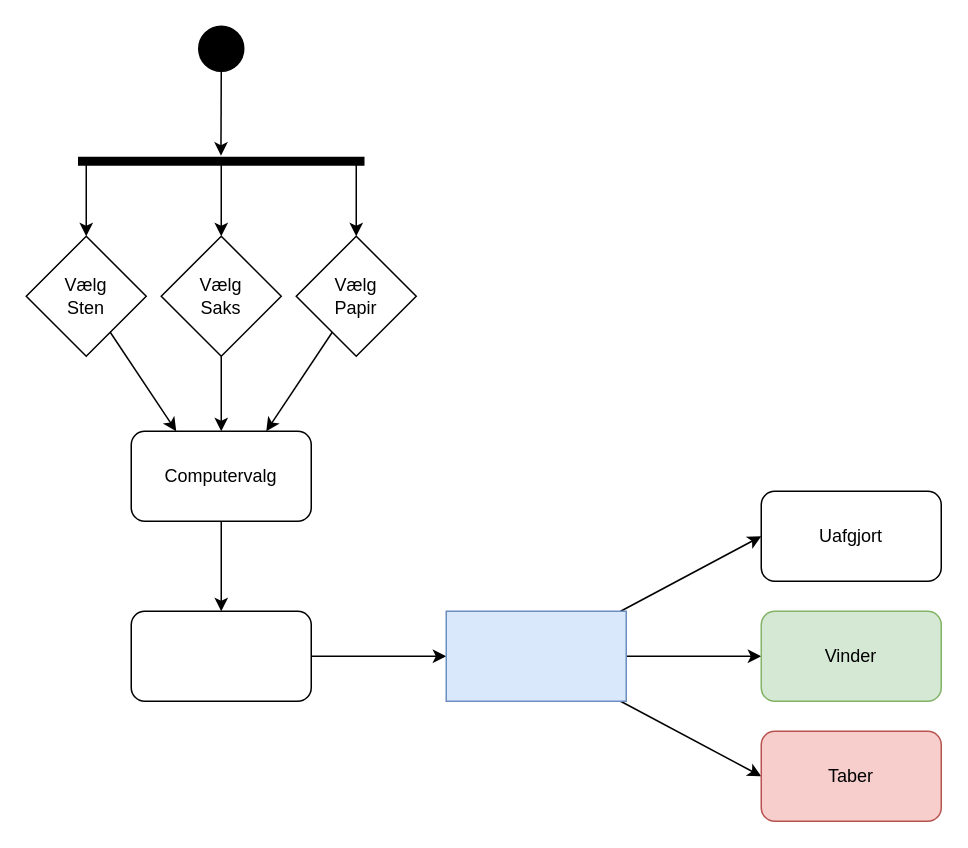
Image size: 968x848. Some labels were removed from this diagram. Each missing label, with the centre of its shape:
Animation kører: (220,655)
Evaluering: (535,655)
